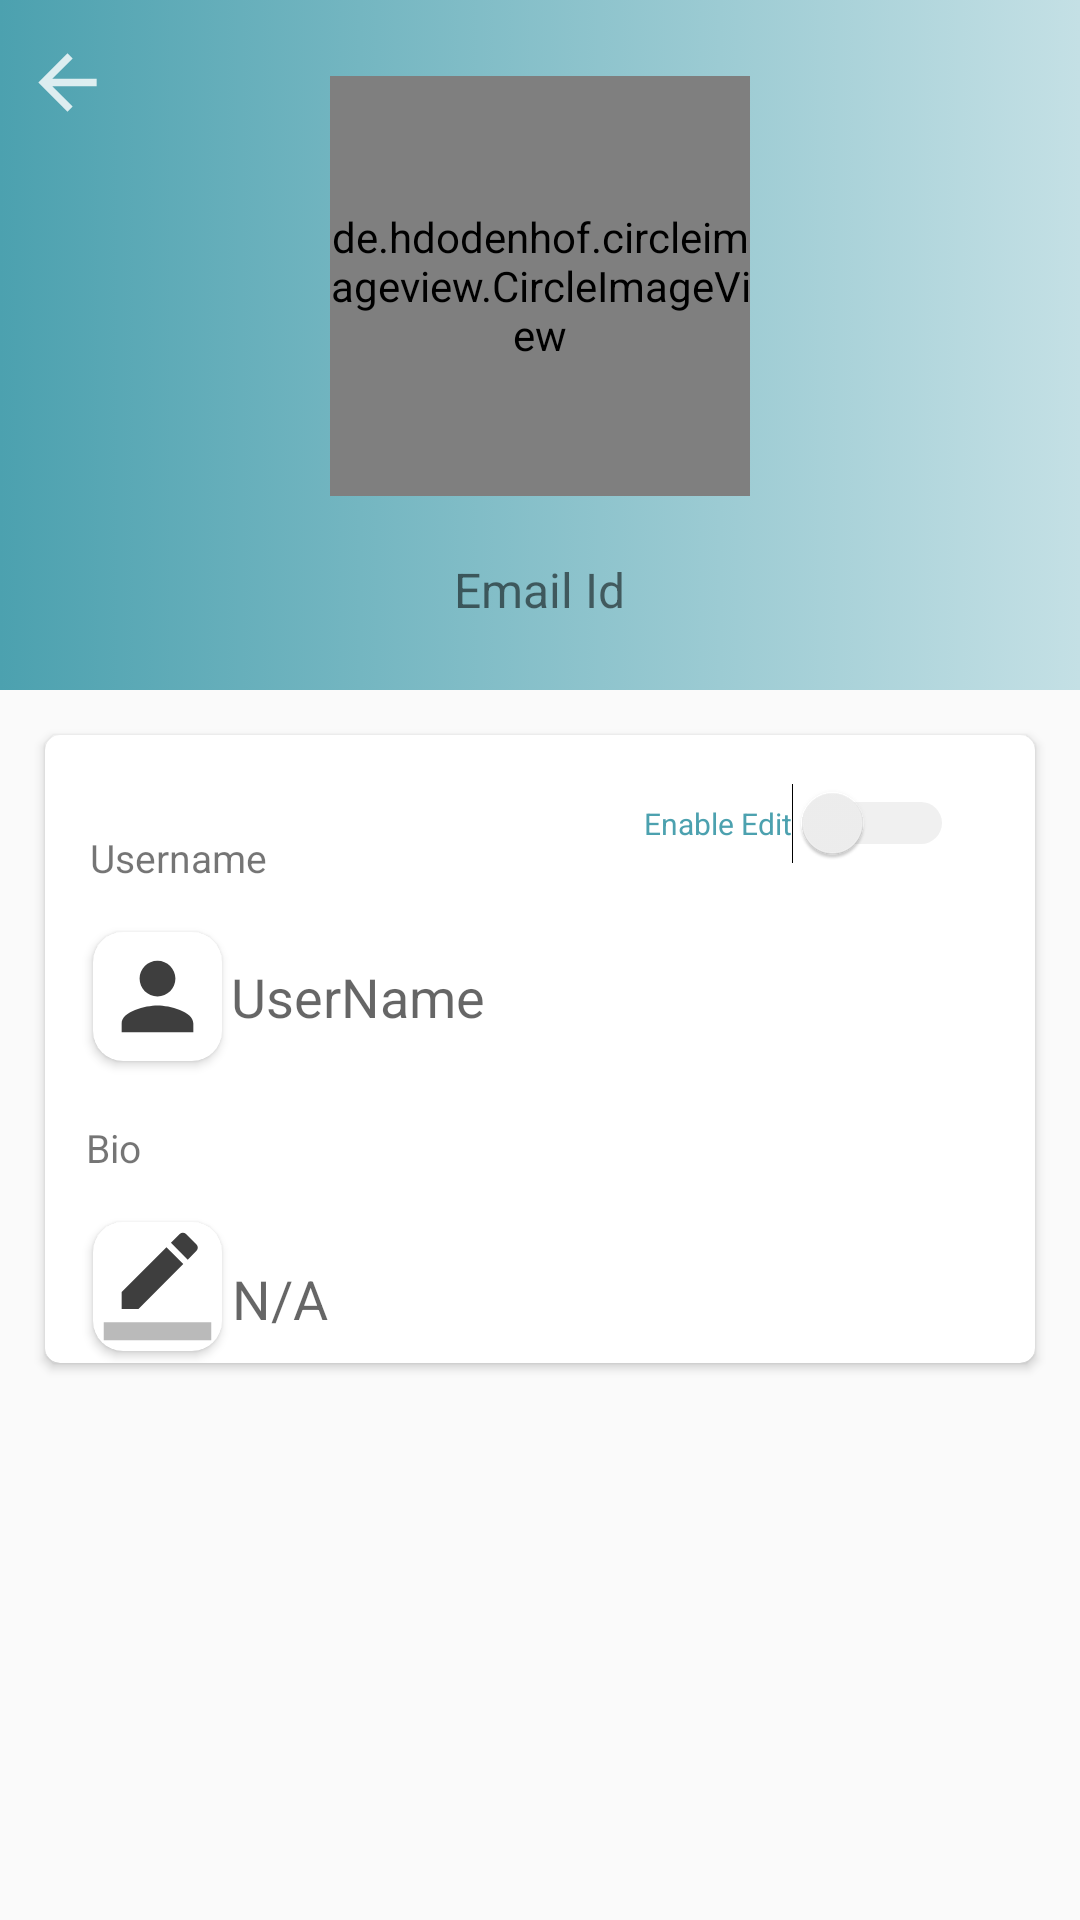

Icons on this 1080px×1920px Android screen, each with the point to tap as point (x, y):
back: point (67, 82)
